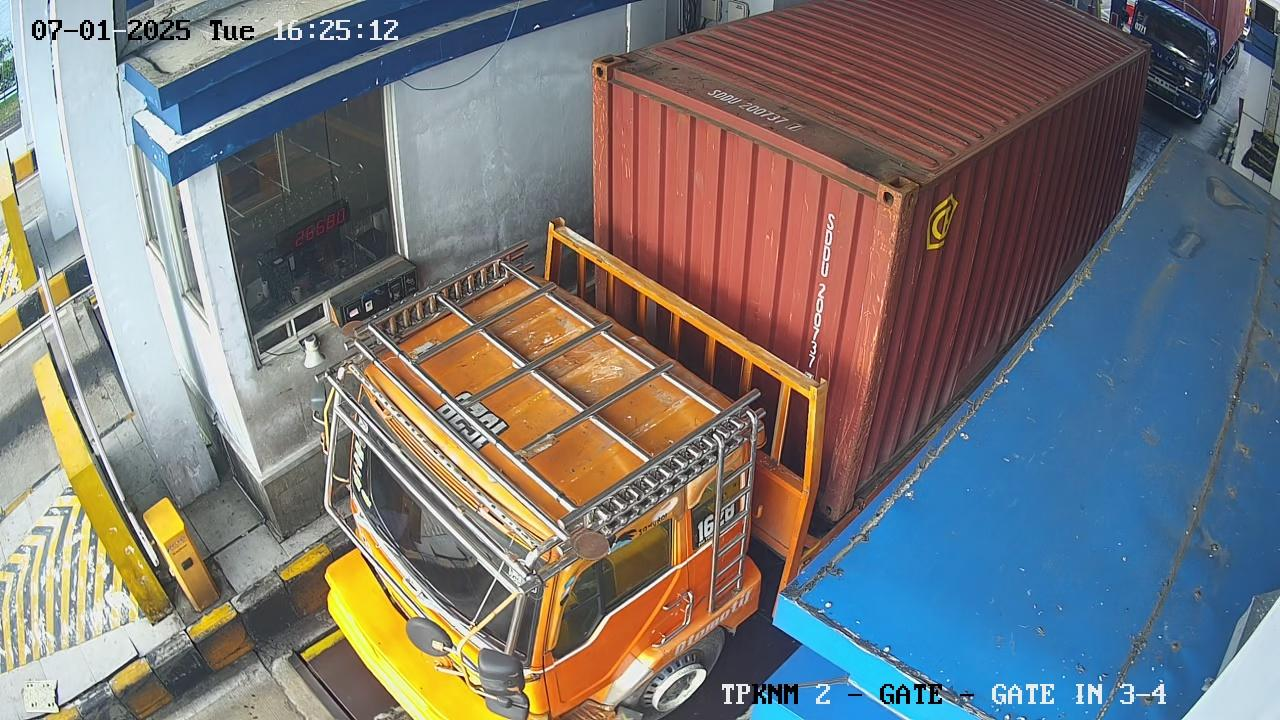Container_ID: (665, 64, 829, 148)
Container_ID_Vertikal: (798, 213, 842, 377)
